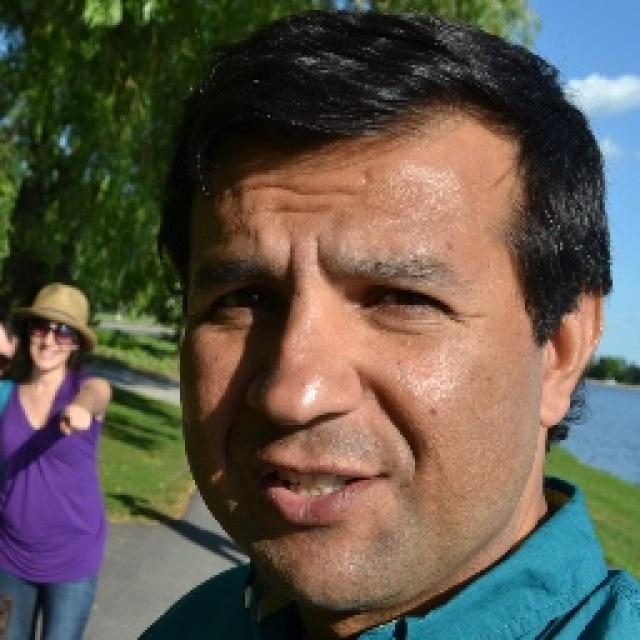earlobe: (536, 374, 572, 430)
eye: (358, 286, 448, 315), (202, 286, 274, 317)
nose: (241, 399, 371, 470)
wholeear: (537, 268, 602, 429)
